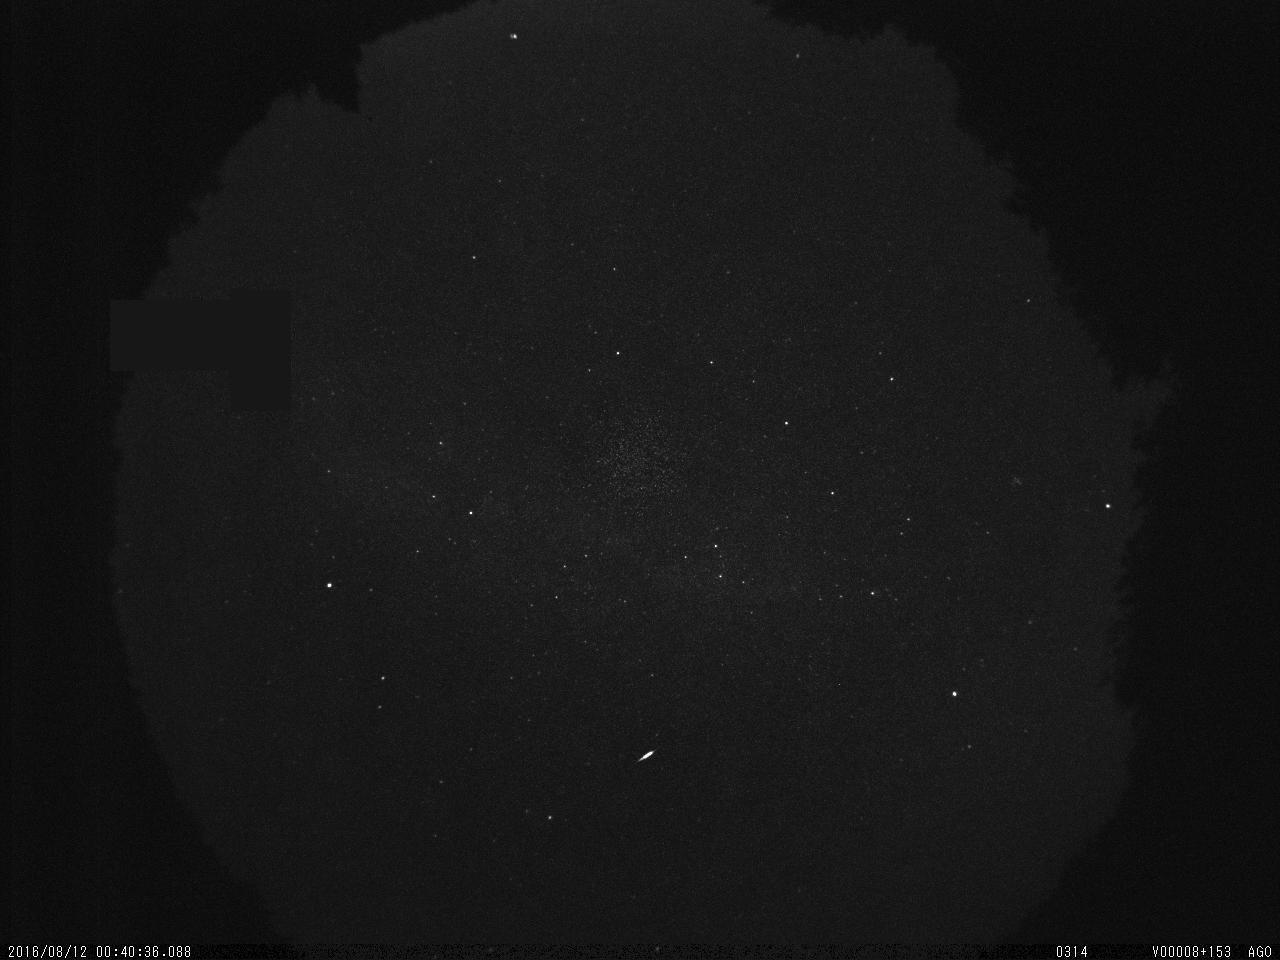meteor: (625, 744, 670, 769)
